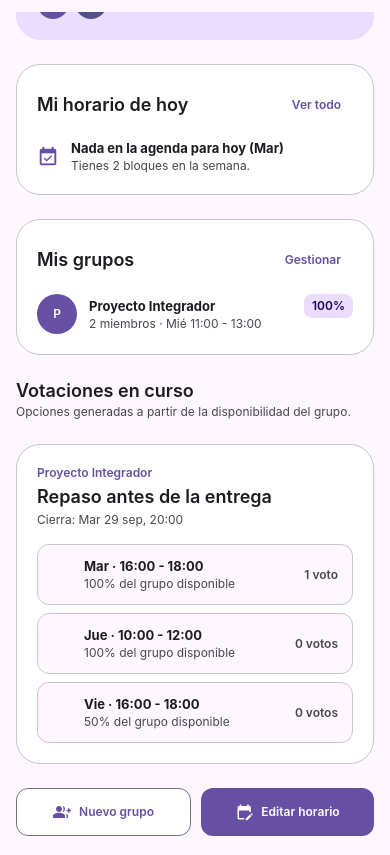
Test case: si votar falla muestra el error en «Votaciones en curso» y no avisa
(page scrolled)
Click the text "Jue · 10:00 - 12:00".
click(143, 635)  # box x1=84 y1=627 x2=202 y2=643
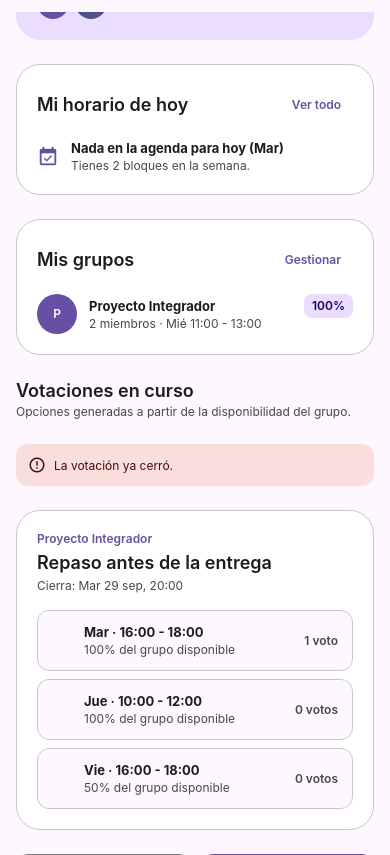
Now the text "La votación ya cerró." is shown, box x1=54 y1=458 x2=173 y2=472
